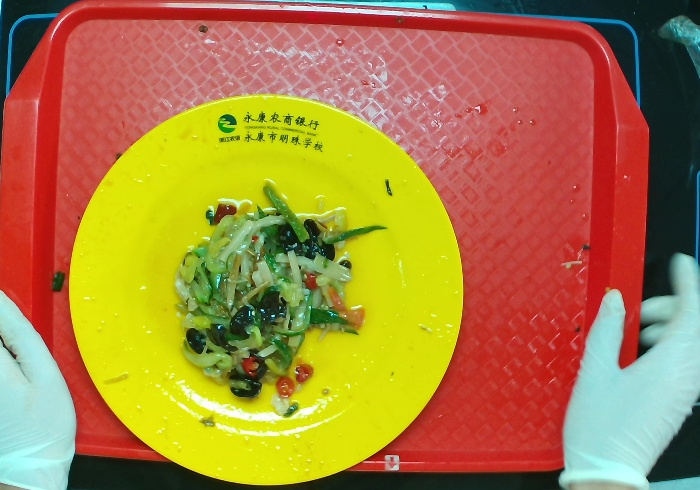YKMZ-Huang_Se_Mian_Pan: (66, 95, 465, 490)
